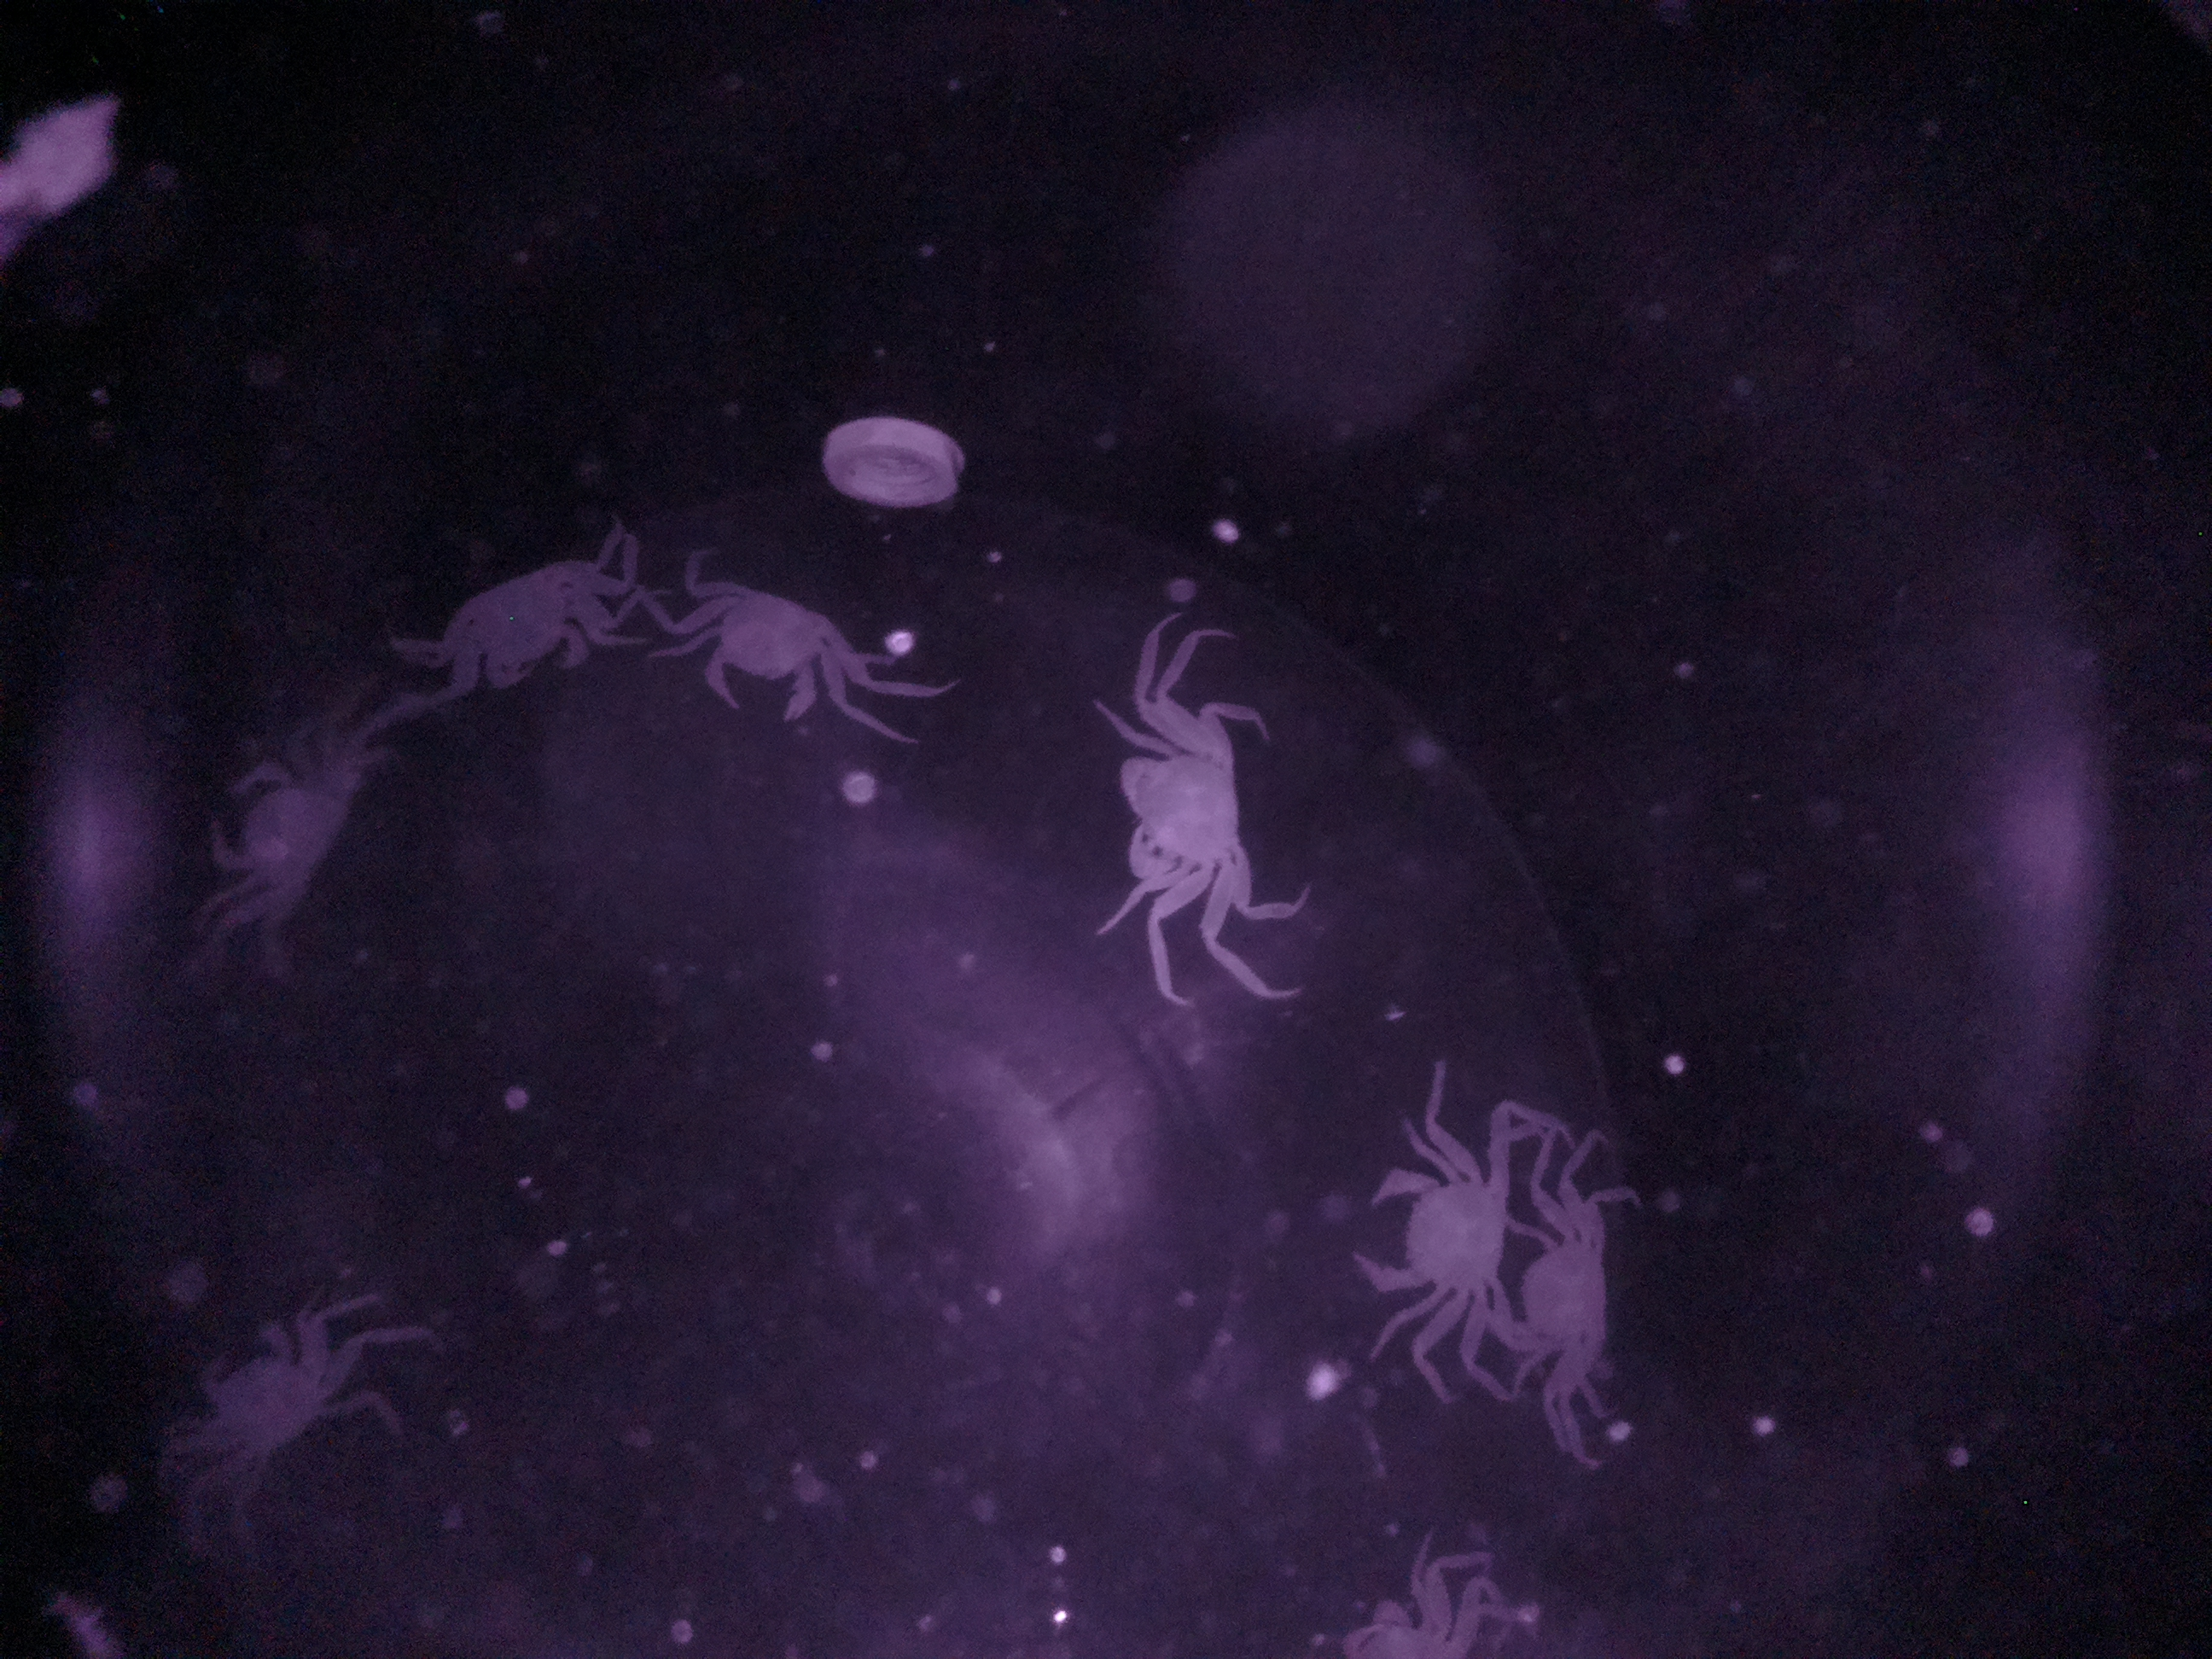Crab: (374, 507, 631, 718), (1085, 674, 1278, 938), (665, 554, 907, 763), (1336, 1093, 1519, 1356), (1505, 1178, 1660, 1438)
